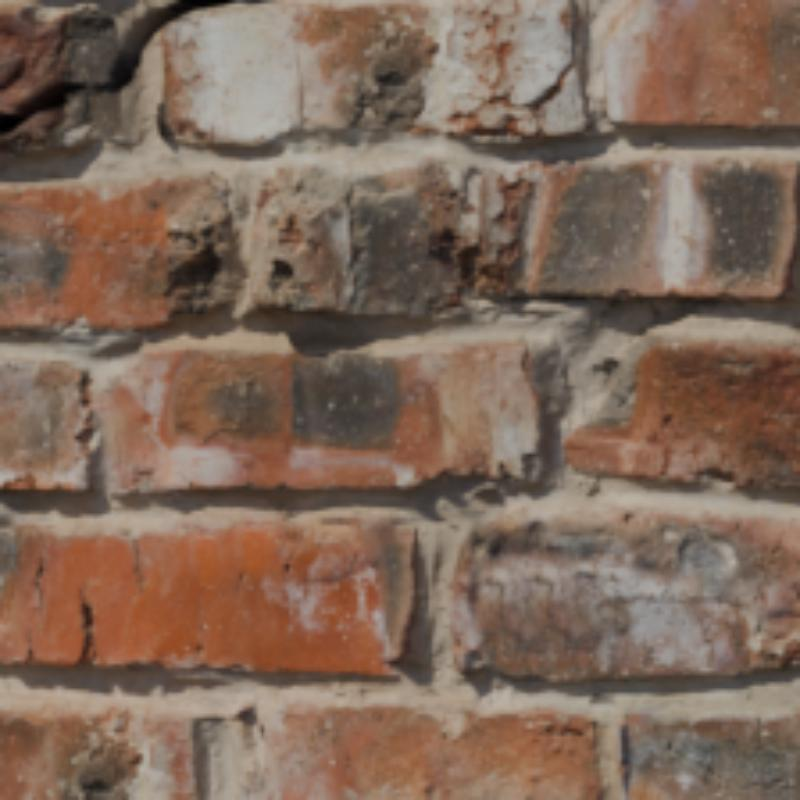crack: (0, 0, 261, 136)
